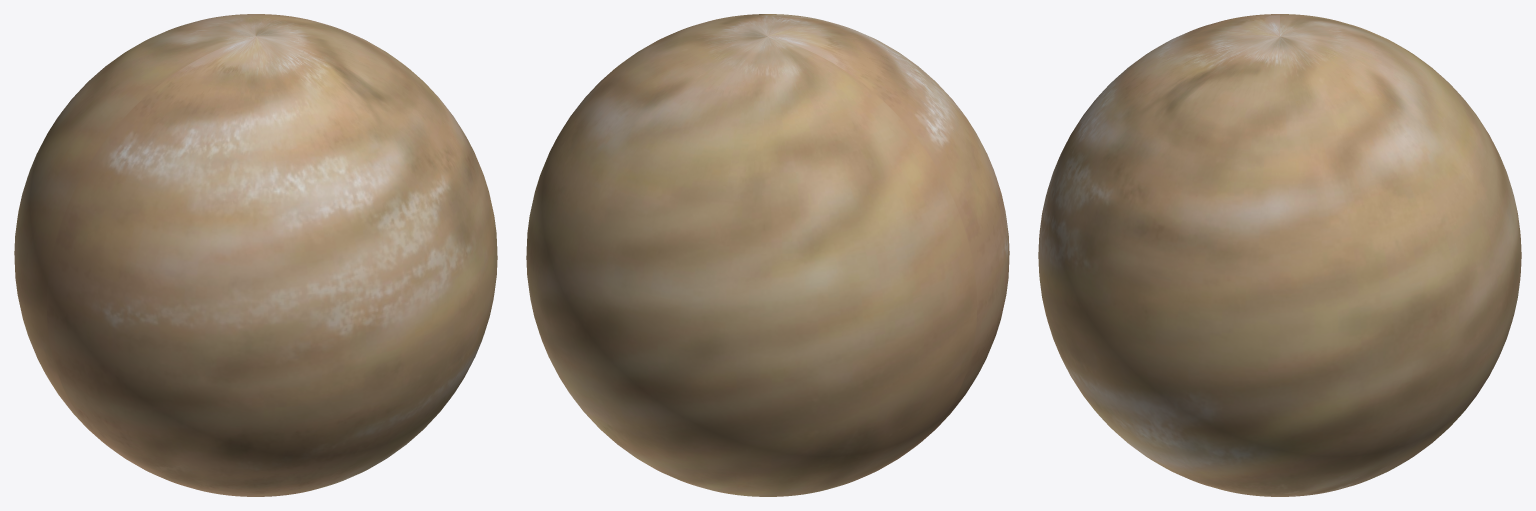
Rendered from trappist1_C_final.glb.
3 views of the same model, side by side, from view 1: azimuth 30°, elevation 25°; view 2: azimuth 150°, elevation 25°; view 3: azimuth 270°, elevation 25° (orthographic).
Parts seen in each view (by area): view 1: Sphere; view 2: Sphere; view 3: Sphere.
Boxes of the visible parts, left/top/right/bottom form: Sphere: left=14, top=14, right=497, bottom=496; Sphere: left=526, top=14, right=1009, bottom=496; Sphere: left=1038, top=14, right=1521, bottom=496.
Bounding box in the file's own units: 2 × 2 × 2.
Materials: 1 (1 with a texture image).
